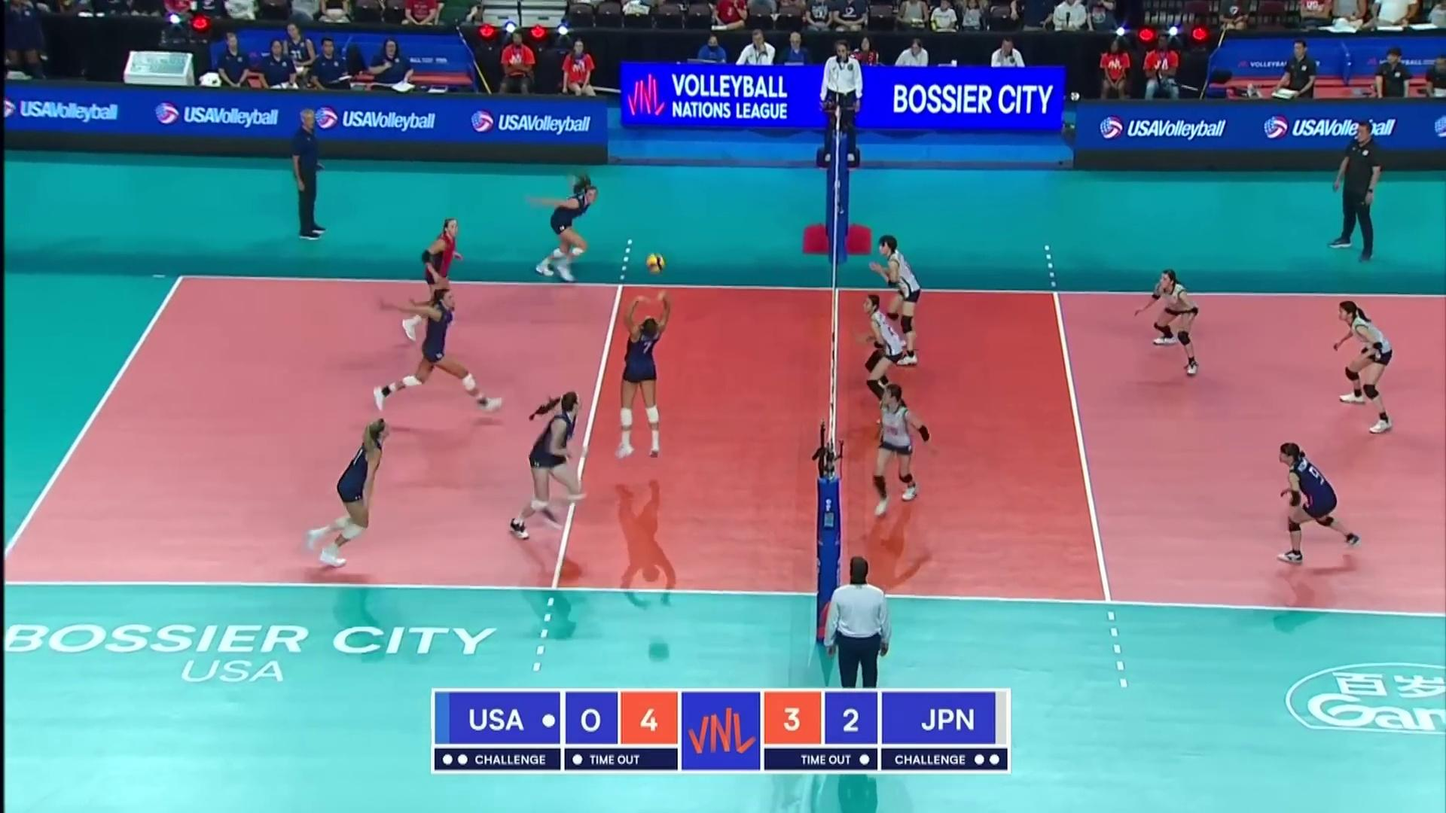player: (373, 265, 506, 408), (499, 394, 585, 542), (305, 419, 391, 566), (1272, 444, 1363, 564), (612, 289, 674, 456), (397, 219, 464, 338), (1334, 303, 1394, 432), (876, 386, 933, 515), (532, 171, 596, 282), (1136, 268, 1201, 377), (871, 234, 923, 361), (858, 297, 904, 425)
refree: (825, 557, 889, 703), (820, 40, 863, 162)
